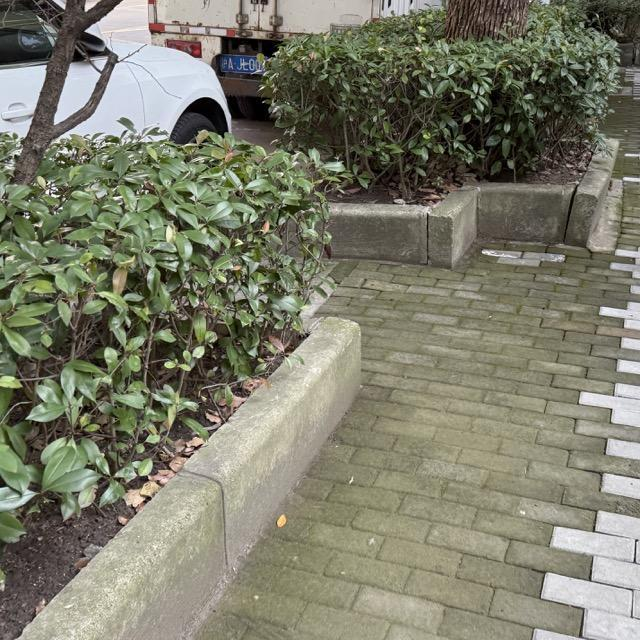curb: (19, 317, 358, 639), (564, 138, 617, 247), (478, 183, 575, 240), (331, 203, 426, 261), (426, 187, 477, 268)
